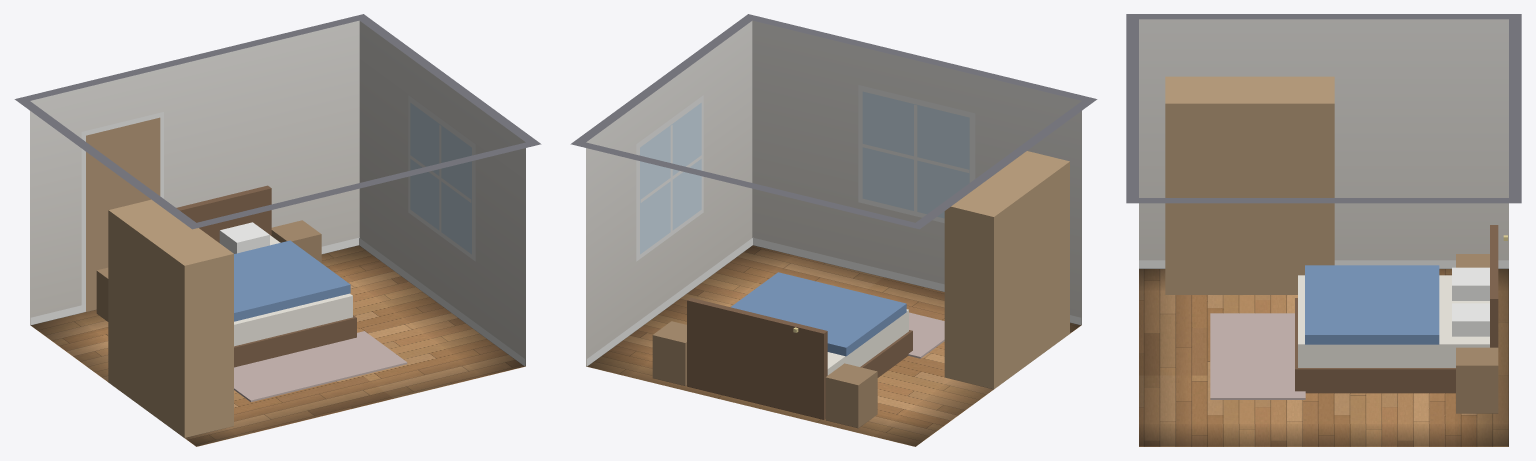
File: bedroom.glb
3 views of the same model, side by side, from view 1: azimuth 30°, elevation 25°; view 2: azimuth 150°, elevation 25°; view 3: azimuth 270°, elevation 25° (orthographic). The views are drawn at different scales.
Visible parts, largest first — view 1: Home; view 2: Home; view 3: Home.
Part boxes in pixels (bbox=[...]): Home: bbox=[14, 14, 541, 446]; Home: bbox=[570, 14, 1097, 446]; Home: bbox=[1126, 14, 1521, 446].
Size of the model in its own units: 4.24 by 2.6 by 3.74.
16 materials, 1 textured.
